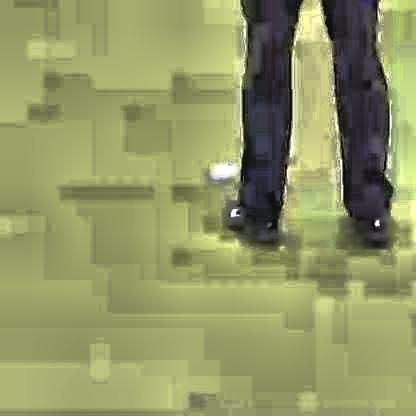golfball: (206, 160, 229, 180)
